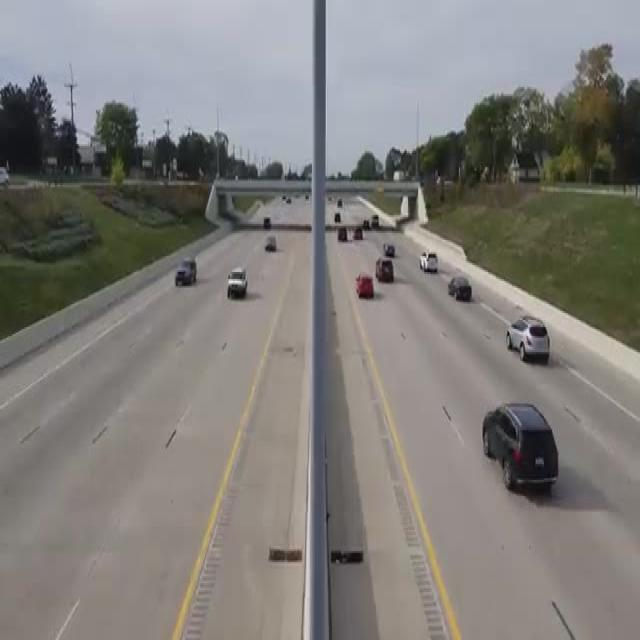car: (474, 394, 577, 507), (496, 311, 563, 370), (222, 262, 257, 305), (349, 265, 379, 311), (370, 252, 406, 288), (170, 252, 200, 288), (418, 238, 443, 277), (444, 272, 476, 295)
